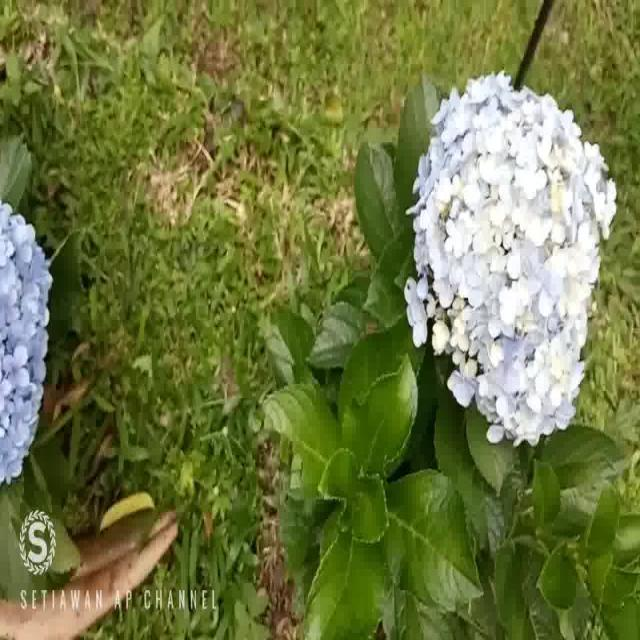Flower: (407, 69, 622, 458)
